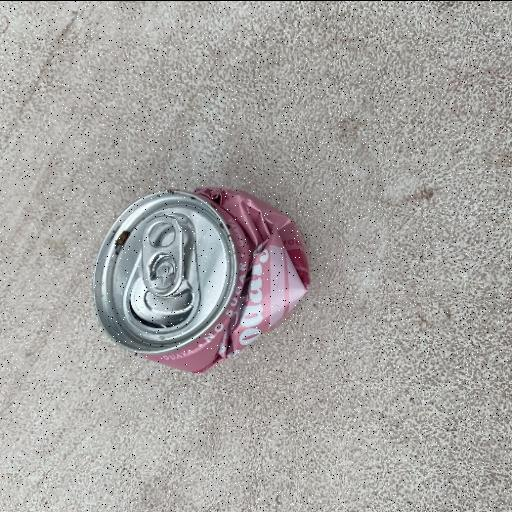Metal: (91, 184, 312, 376)
